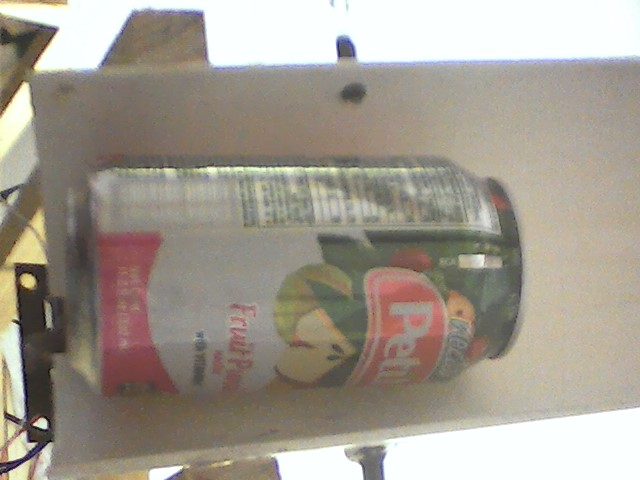lata: (54, 146, 537, 408)
